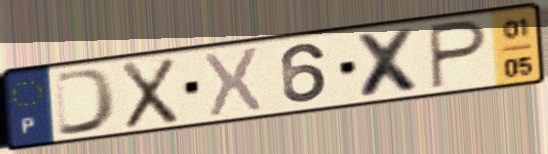6: (278, 41, 332, 106)
D: (52, 66, 121, 139)
P: (427, 17, 491, 92)
X: (352, 25, 428, 100), (201, 43, 265, 119), (119, 54, 181, 132)
